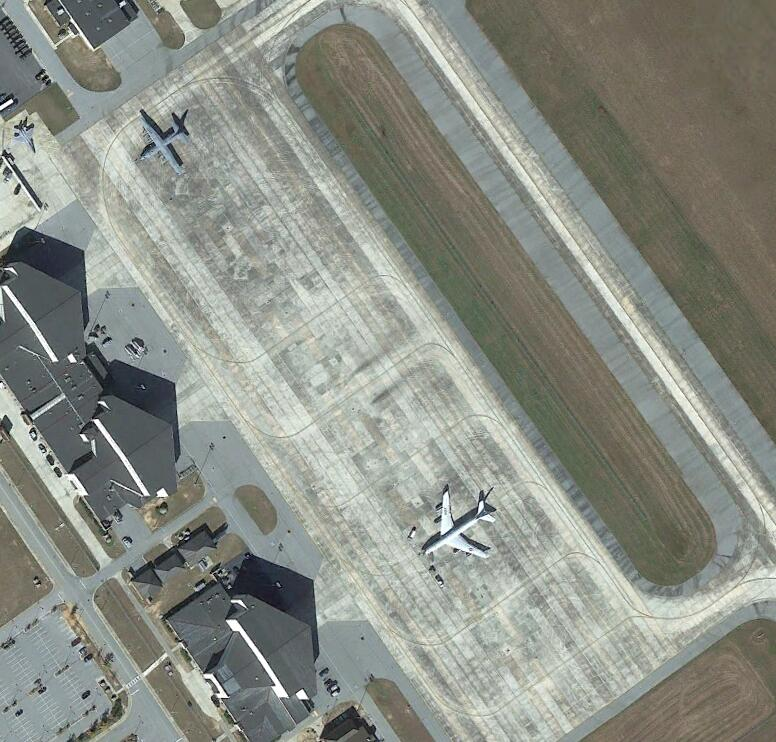A11: (422, 488, 500, 561)
A15: (10, 119, 37, 153)
A2: (137, 115, 193, 176)
